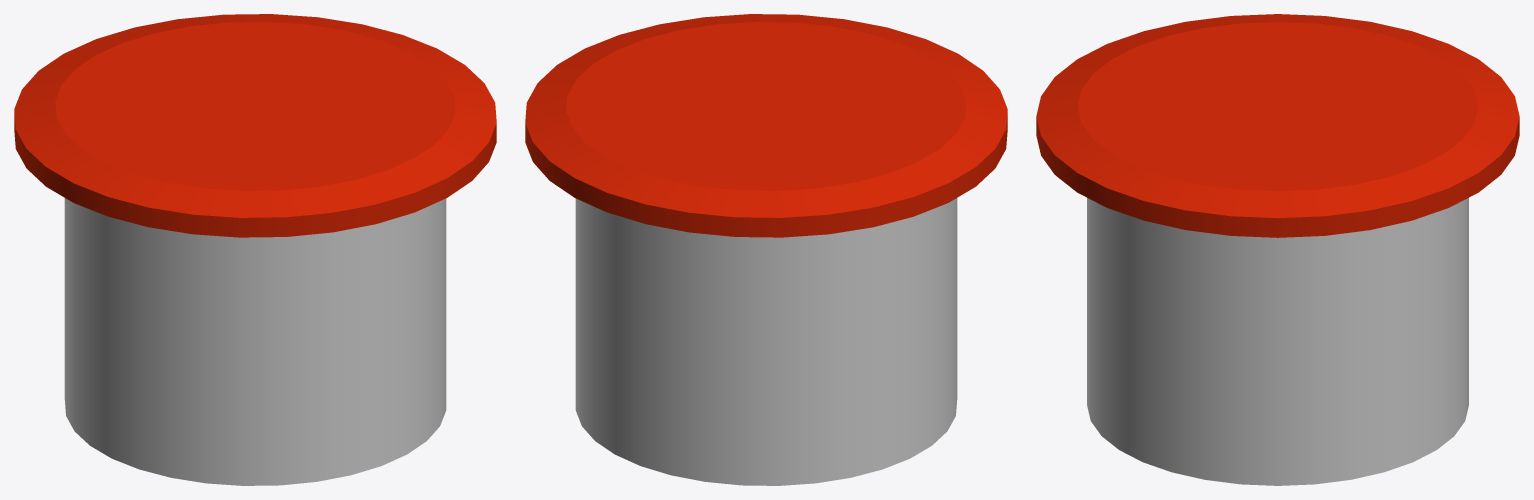
Rendered from 2_podium_low.fbx.
The picture shows the model from 3 angles, left to right: view 1: azimuth 30°, elevation 25°; view 2: azimuth 150°, elevation 25°; view 3: azimuth 270°, elevation 25°; orthographic projection.
Parts seen in each view (by area): view 1: 2_low; view 2: 2_low; view 3: 2_low.
Boxes of the visible parts, x1,y1,x2,y2 form: 2_low: (14, 14, 496, 485); 2_low: (525, 14, 1007, 485); 2_low: (1036, 14, 1519, 485).
Size of the model in its own units: 463 by 316 by 463.
